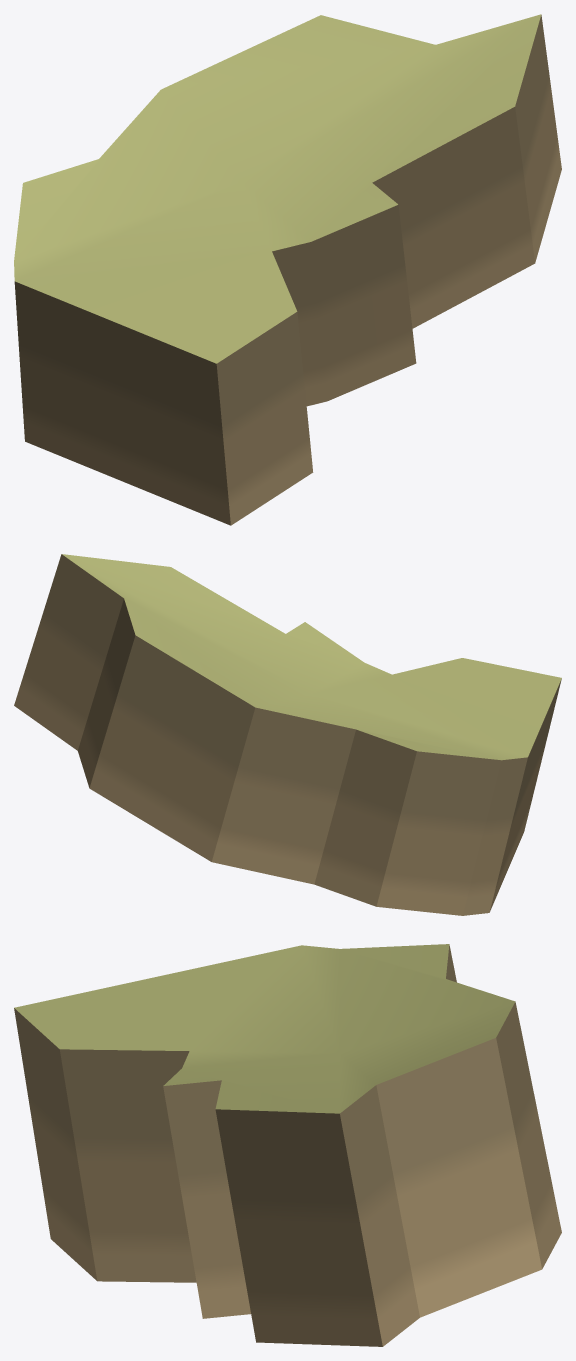
Rendered from 063f_Guinea.glb.
3 views of the same model, one above another, from view 1: azimuth 30°, elevation 25°; view 2: azimuth 150°, elevation 25°; view 3: azimuth 270°, elevation 25° (orthographic). The views are drawn at different scales.
Visible parts, largest first — view 1: part_0; view 2: part_0; view 3: part_0.
Part boxes in pixels (left/top/right/bottom): part_0: left=14, top=14, right=561, bottom=525; part_0: left=14, top=554, right=561, bottom=915; part_0: left=14, top=944, right=561, bottom=1346.
Size of the model in its own units: 0.6558 by 0.3414 by 0.4514.
1 material, 1 textured.
